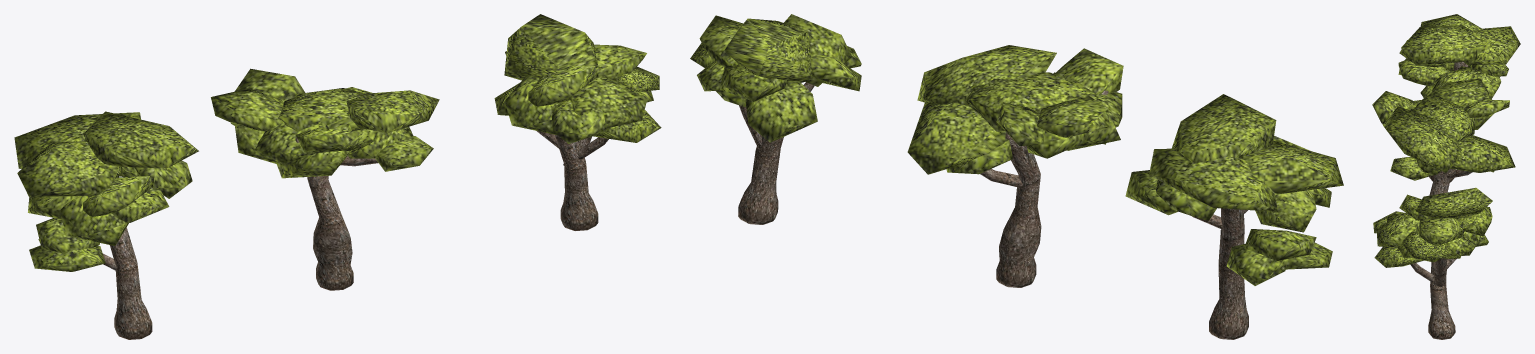
The model's file is new_trees.fbx.
3 views of the same model, side by side, from view 1: azimuth 30°, elevation 25°; view 2: azimuth 150°, elevation 25°; view 3: azimuth 270°, elevation 25° (orthographic). The views are drawn at different scales.
Visible parts, largest first — view 1: leaves_1, leaves_2, leaves_3, tree_2, tree_3, tree_1; view 2: leaves_1, leaves_2, leaves_3, tree_2, tree_1, tree_3; view 3: leaves_2, leaves_3, leaves_1, tree_3, tree_2, tree_1.
Part boxes in pixels (x1,y1,x2,y2): leaves_1: (14, 111, 198, 271); leaves_2: (211, 68, 439, 178); leaves_3: (494, 14, 661, 143); tree_2: (295, 137, 378, 290); tree_3: (536, 130, 608, 230); tree_1: (102, 227, 152, 339); leaves_1: (1125, 94, 1343, 285); leaves_2: (907, 45, 1123, 174); leaves_3: (690, 14, 861, 142); tree_2: (980, 90, 1108, 287); tree_1: (1192, 208, 1248, 339); tree_3: (738, 82, 814, 224); leaves_2: (1372, 78, 1515, 180); leaves_3: (1373, 187, 1492, 267); leaves_1: (1398, 14, 1520, 98); tree_3: (1410, 258, 1456, 339); tree_2: (1429, 168, 1472, 195); tree_1: (1429, 61, 1468, 182).
Size of the model in its own units: 5818 by 1844 by 1689.
